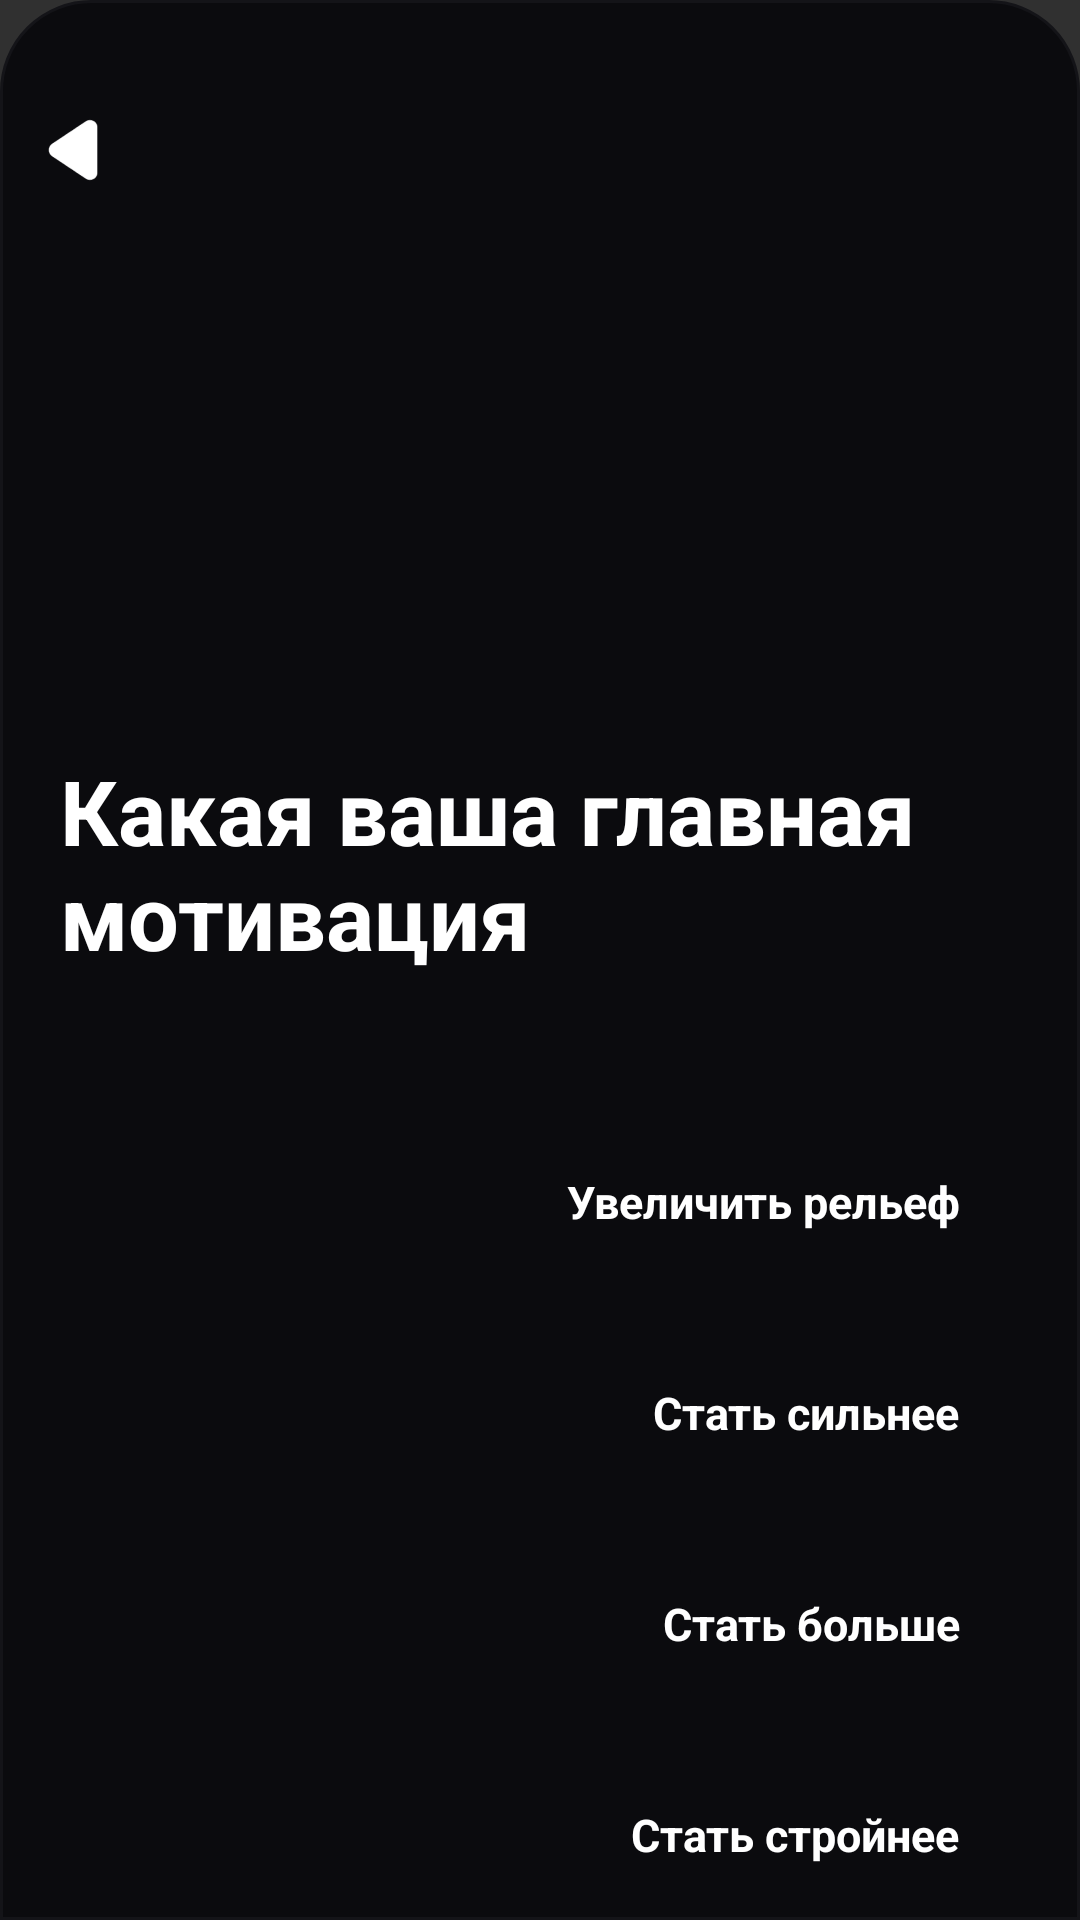

Icons on this 1080 × 1920 Android screen, each with the point to tap as point (x, y):
back: point (73, 150)
